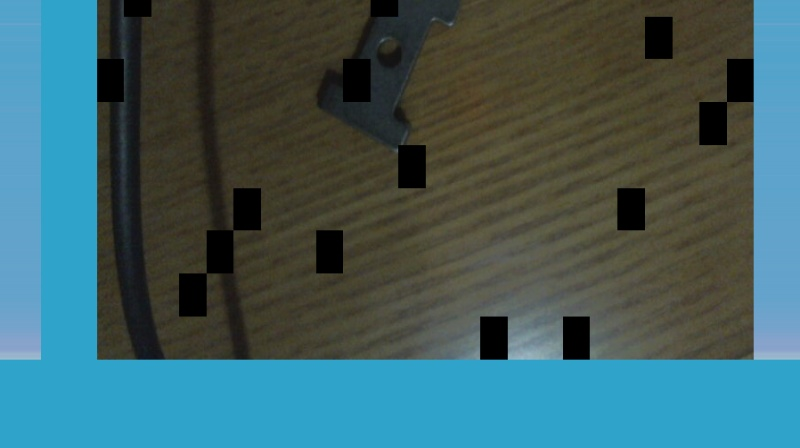O002: (313, 0, 460, 155)
